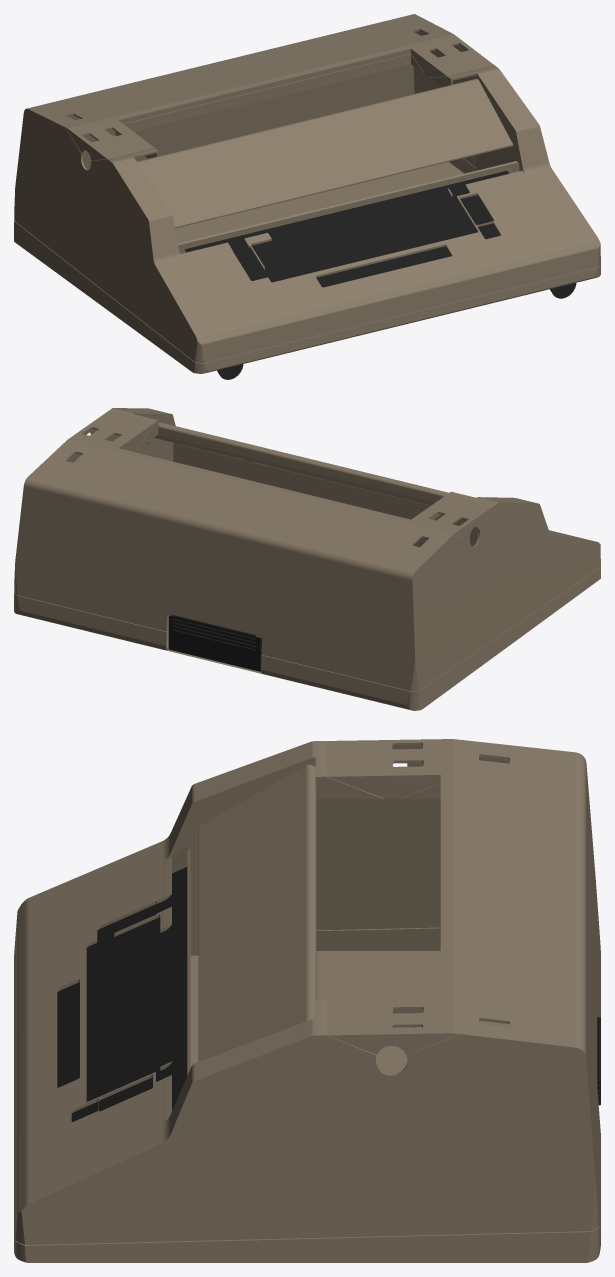
The model's file is element_enclosure.glb.
3 renders of one model, top to bottom at view 1: azimuth 30°, elevation 25°; view 2: azimuth 150°, elevation 25°; view 3: azimuth 270°, elevation 25°, orthographic. The views are drawn at different scales.
Visible parts, largest first — view 1: element_body, element_hood, element_keybed, element_base, element_rear_cover, element_feet; view 2: element_body, element_base, element_rear_cover, element_hood, element_strain_relief; view 3: element_body, element_hood, element_base, element_keybed, element_rear_cover.
Boxes of the visible parts, <box> form: element_body: <box>14,14,600,362</box>; element_hood: <box>137,78,513,228</box>; element_keybed: <box>184,170,509,287</box>; element_base: <box>14,158,600,373</box>; element_rear_cover: <box>65,33,493,159</box>; element_feet: <box>217,283,576,379</box>; element_body: <box>14,408,600,691</box>; element_base: <box>14,567,600,710</box>; element_rear_cover: <box>66,411,493,536</box>; element_hood: <box>146,422,448,505</box>; element_strain_relief: <box>168,615,261,671</box>; element_body: <box>15,740,599,1244</box>; element_hood: <box>198,764,316,1061</box>; element_base: <box>14,927,600,1262</box>; element_keybed: <box>57,867,187,1121</box>; element_rear_cover: <box>326,739,459,1054</box>.
Size of the model in its own units: 0.5756 by 0.2126 by 0.4598.
